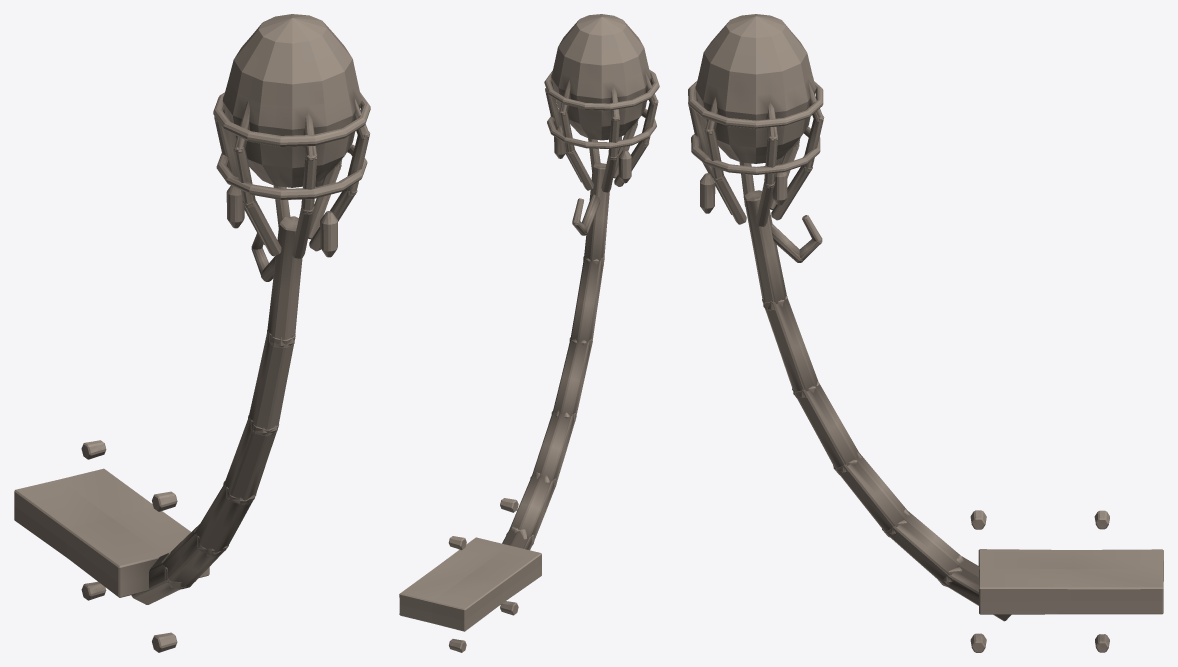
File: p_torch.glb
The picture shows the model from 3 angles, left to right: view 1: azimuth 30°, elevation 25°; view 2: azimuth 150°, elevation 25°; view 3: azimuth 270°, elevation 25°; orthographic projection. The views are drawn at different scales.
Visible parts, largest first — view 1: torch; view 2: torch; view 3: torch.
Part boxes in pixels (x1,y1,x2,y2): torch: (14,14,370,652); torch: (399,14,659,652); torch: (688,14,1163,652).
Size of the model in its own units: 0.2236 by 1.13 by 0.7695.
